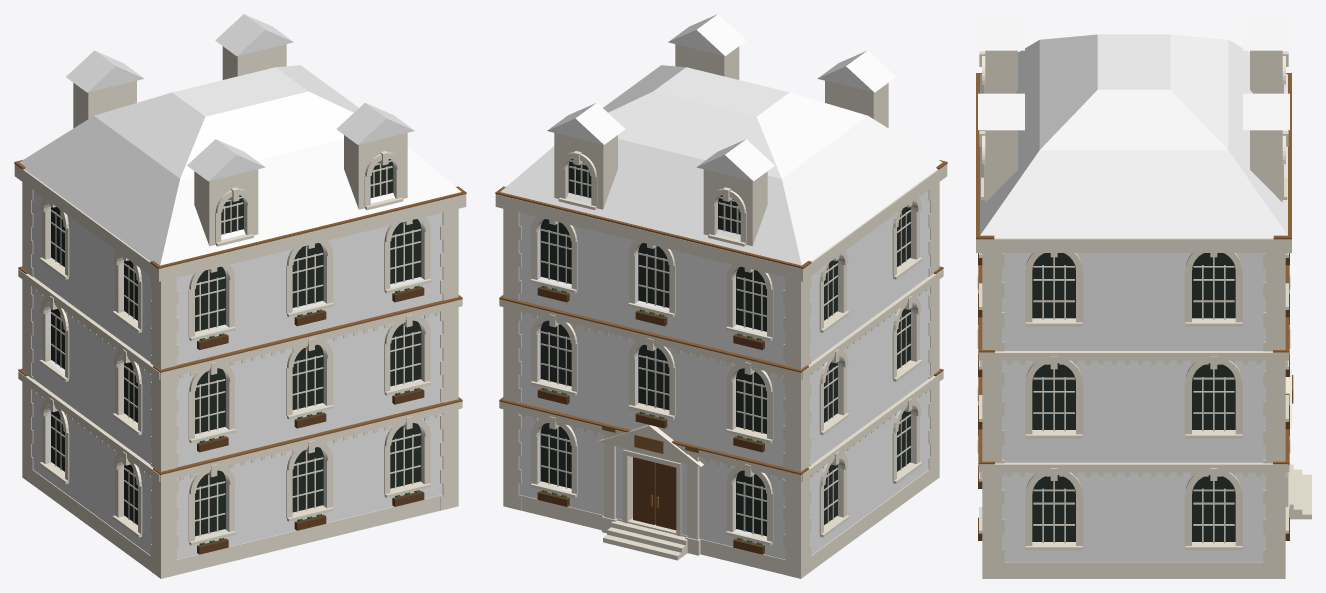
Rendered from gedung-g07-blender-v1.glb.
The picture shows the model from 3 angles, left to right: view 1: azimuth 30°, elevation 25°; view 2: azimuth 150°, elevation 25°; view 3: azimuth 270°, elevation 25°; orthographic projection. The views are drawn at different scales.
Visible parts, largest first — view 1: Cube.009, DormGable_-2.6_-1, Cube, Cube.085, Cube.015, Cube.468, Cube.022; view 2: Cube.009, DormGable_-2.6_-1, Cube, Cube.085, Cube.015, Cube.022, Cube.468; view 3: DormGable_-2.6_-1, Cube.009, Cube.085, Cube.015, Cube.468, Cube.022.
Boxes of the visible parts, box(x1,y1,x2,y2) form: Cube.009: box(14, 44, 466, 578); DormGable_-2.6_-1: box(19, 14, 461, 265); Cube: box(176, 212, 442, 559); Cube.085: box(32, 190, 151, 555); Cube.015: box(51, 159, 421, 536); Cube.468: box(14, 160, 466, 474); Cube.022: box(197, 286, 424, 554); Cube.009: box(495, 44, 947, 578); DormGable_-2.6_-1: box(500, 14, 942, 265); Cube: box(519, 212, 785, 559); Cube.085: box(810, 190, 929, 555); Cube.015: box(540, 159, 910, 536); Cube.022: box(537, 286, 764, 554); Cube.468: box(495, 160, 947, 507); DormGable_-2.6_-1: box(978, 14, 1289, 238); Cube.009: box(976, 50, 1311, 578); Cube.085: box(1002, 253, 1265, 561); Cube.015: box(1032, 253, 1235, 541); Cube.468: box(976, 73, 1293, 464); Cube.022: box(978, 253, 1289, 540).
Size of the model in its own units: 10.72 by 13.55 by 9.25.
